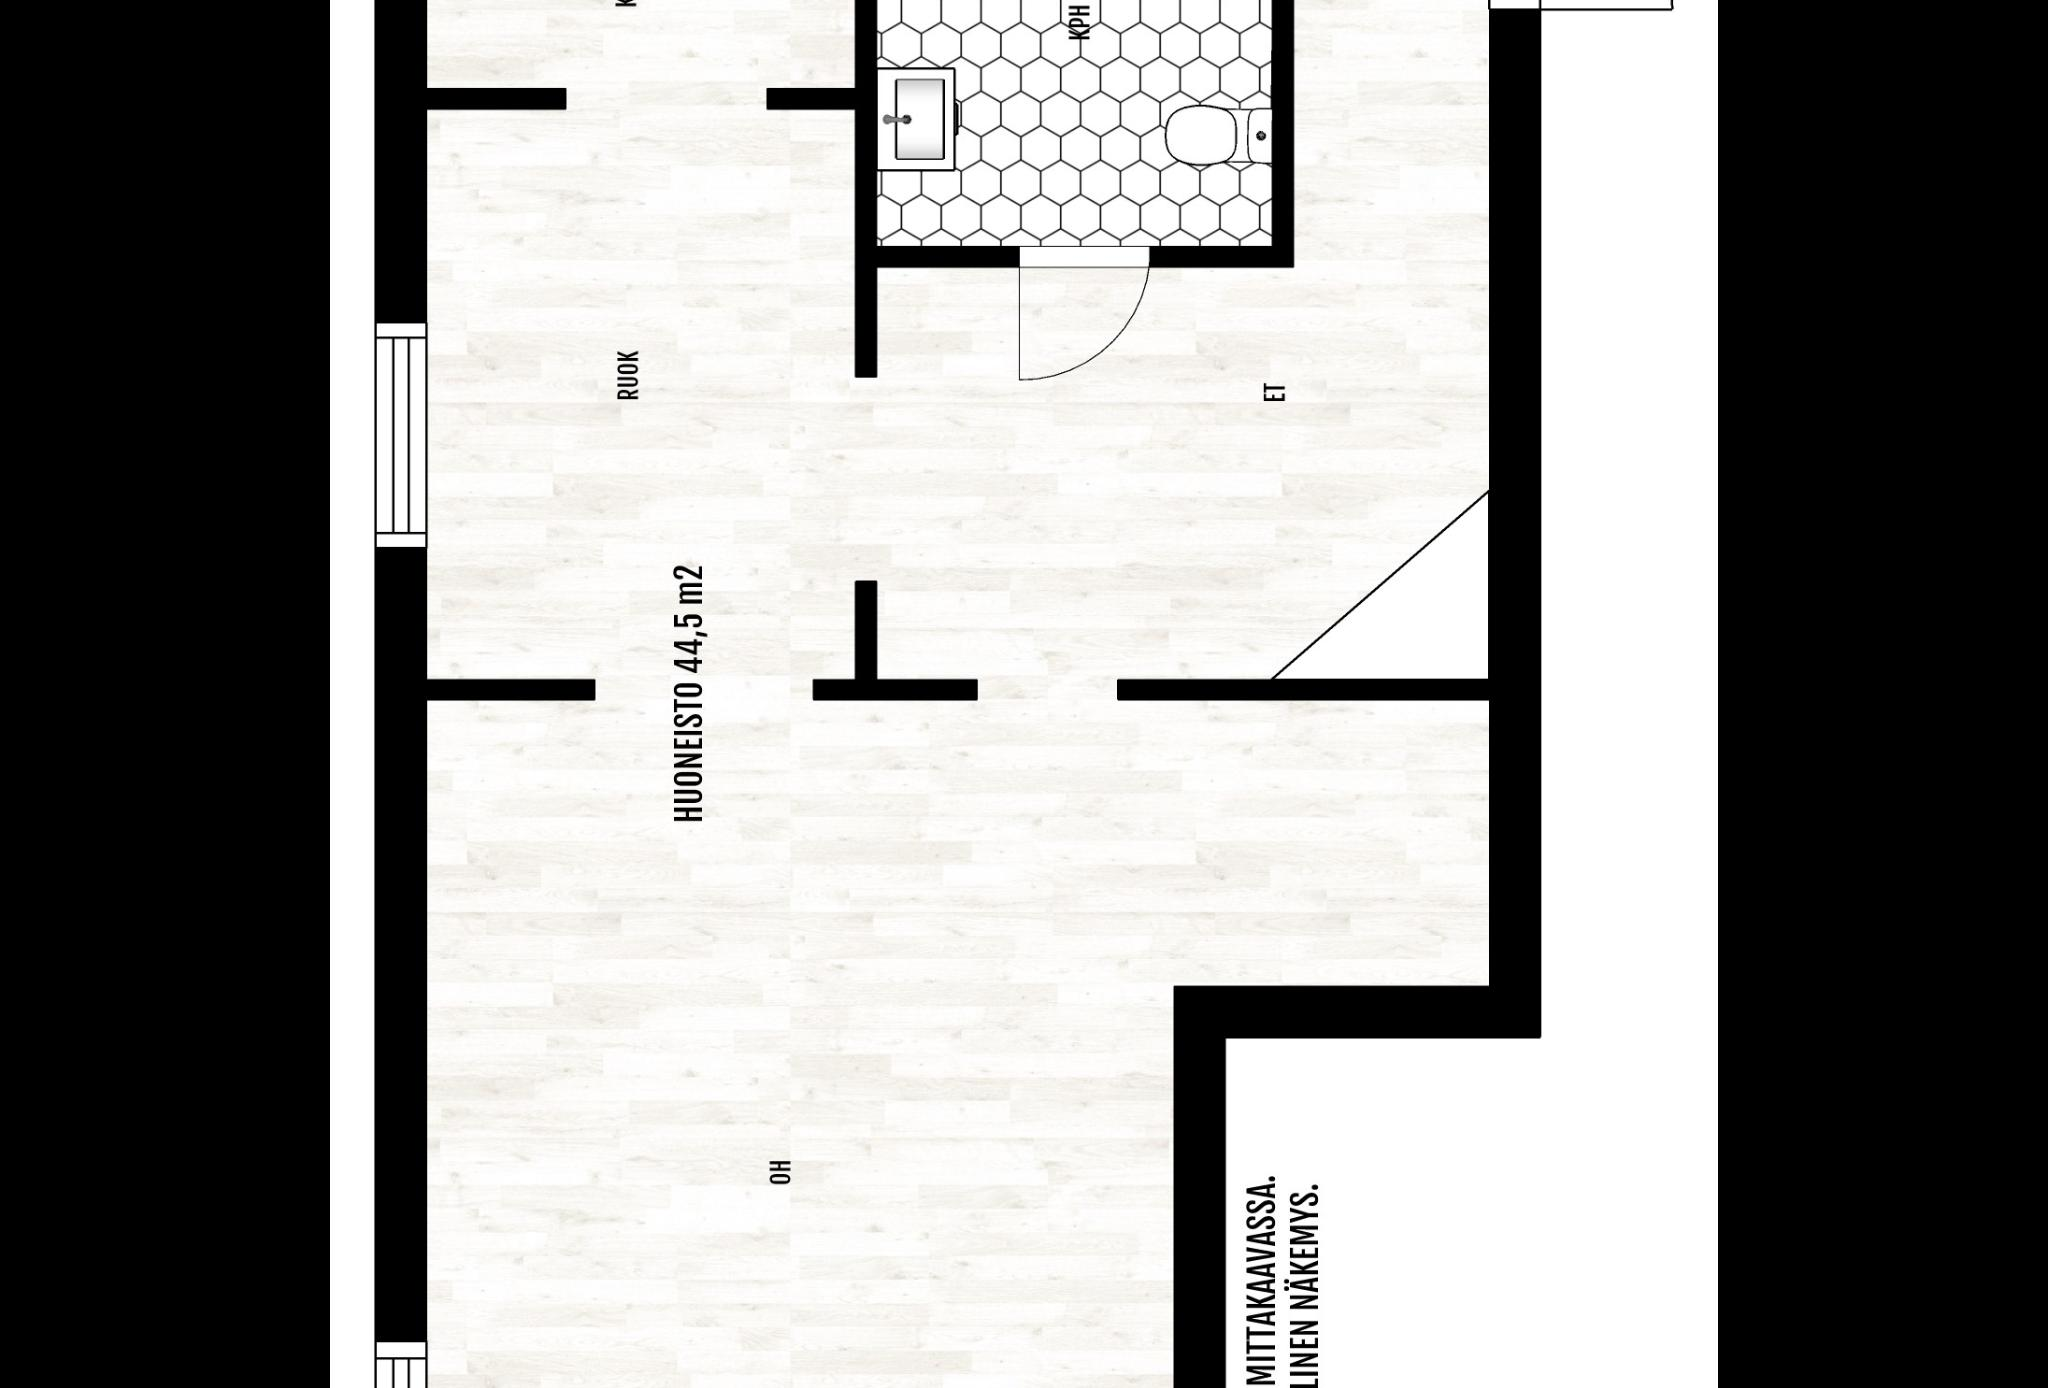bathroom: (874, 0, 1277, 246)
door: (1009, 231, 1170, 387)
perimeter: (370, 0, 1545, 1388)
window: (363, 310, 437, 559), (363, 1315, 442, 1388)
